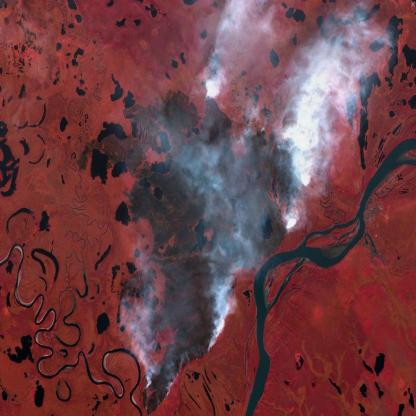fire: (271, 126, 313, 236), (200, 86, 220, 110)
